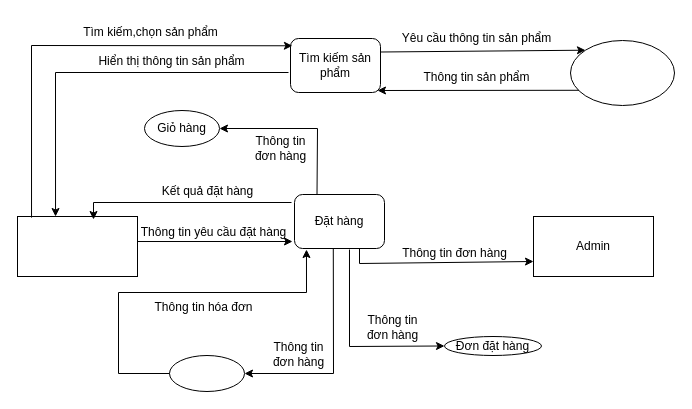
The diagram is 692 pixels wide and 409 high, and some of its shapes have lost their labels. Here are the shapes that lost their labels. From the top down, the box of each, then its label:
(570, 40, 674, 106): Danh mục sản phẩm
(16, 216, 138, 276): Khách hàng
(168, 354, 244, 392): Hóa đơn
